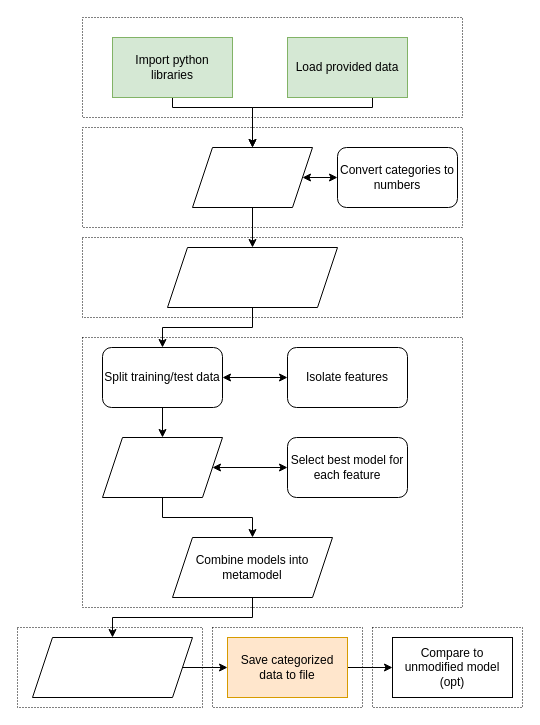
Some shapes in this 540 by 725 pixel diagram are drawn without their labels. The shapes that lost their labels are listed below. From the top down, each one's centre as x and y in pixels, then its label:
At point (252, 177): "Clean data".
At point (252, 277): "Calculate class weights (categories are unbalanced)".
At point (162, 467): "Train Auto_ViML models".
At point (112, 667): "Apply model to eval data".
